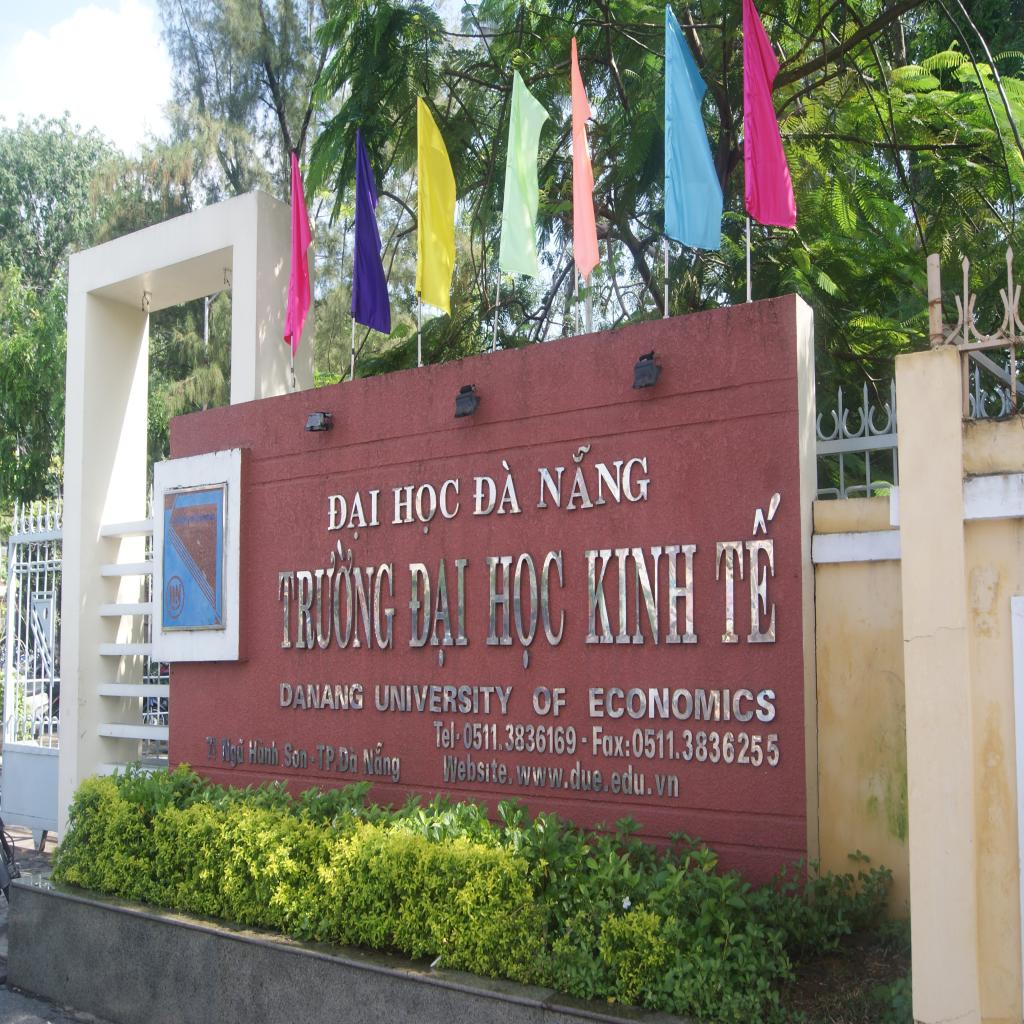text: (278, 538, 396, 651), (583, 540, 699, 650), (482, 549, 566, 671), (533, 436, 650, 511), (588, 683, 778, 725), (405, 556, 469, 670), (516, 761, 683, 804), (633, 724, 783, 768), (374, 682, 514, 718), (390, 476, 461, 536), (462, 722, 578, 757), (471, 459, 522, 522), (440, 750, 514, 793), (277, 678, 364, 712), (327, 488, 382, 541), (360, 742, 403, 783), (590, 723, 632, 758), (530, 684, 569, 719), (248, 734, 280, 768), (222, 732, 246, 769), (317, 740, 340, 774), (283, 739, 308, 770), (338, 742, 359, 777), (432, 720, 456, 750), (204, 734, 218, 761), (580, 732, 589, 746), (310, 753, 316, 763), (456, 732, 460, 742)
